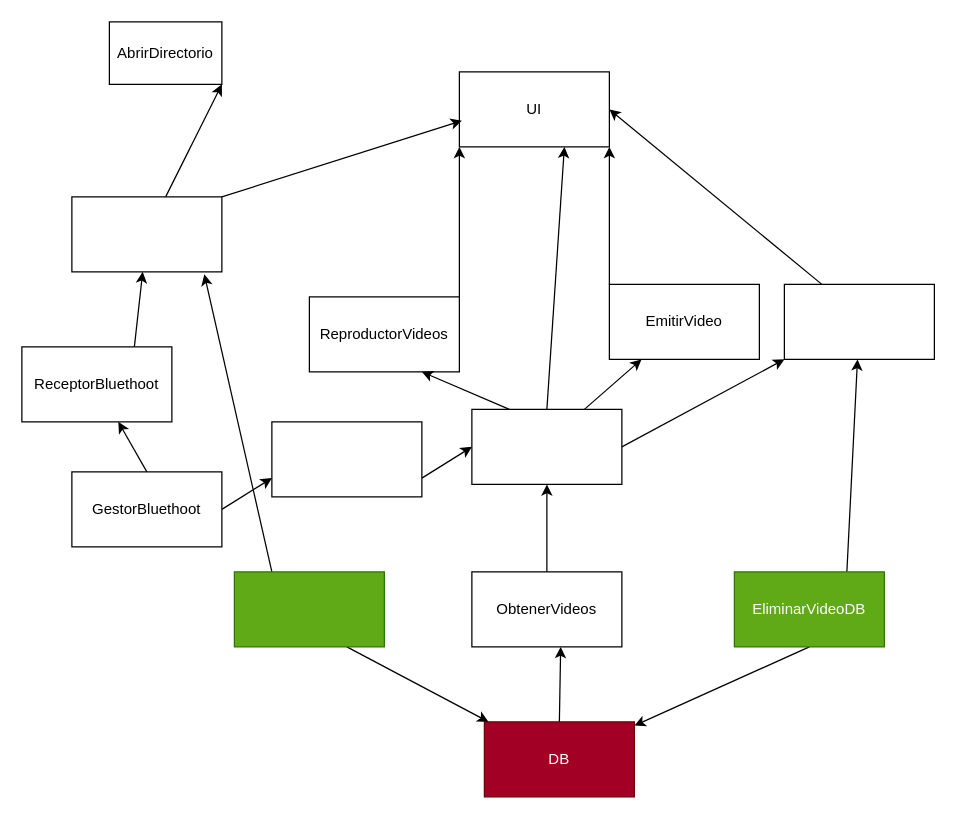
The diagram is 956 pixels wide and 819 high, and some of its shapes have lost their labels. The shapes that lost their labels are listed below. From the top down, each one's centre as x and y in pixels, then its label:
point 146,234: AñadirVideo
point 858,321: EliminarVideo
point 346,459: EnviarBluethoot
point 546,446: SelectorVideos
point 308,609: AñadirVideoDB
